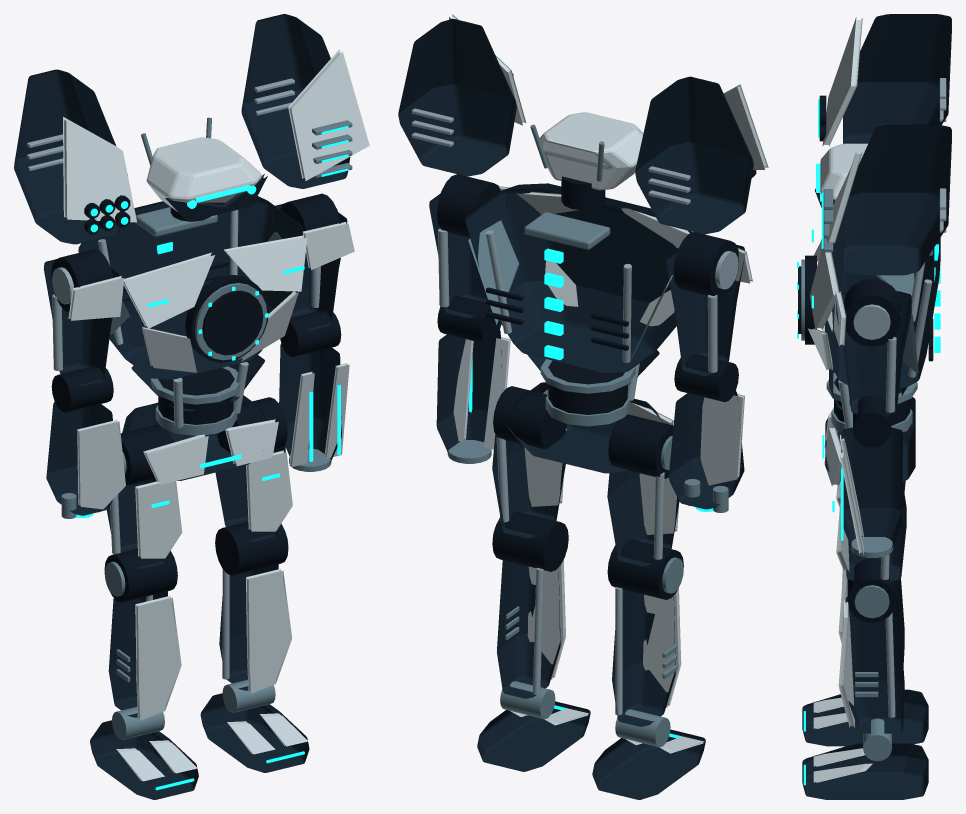
File: argus-aster.glb
The picture shows the model from 3 angles, left to right: view 1: azimuth 30°, elevation 25°; view 2: azimuth 150°, elevation 25°; view 3: azimuth 270°, elevation 25°; orthographic projection. The views are drawn at different scales.
Parts seen in each view (by area): view 1: chest, plasma_cannon, rocket_pod, shin_r, shin_l, forearm_l, forearm_r, upperarm_l, head, thigh_l, pelvis, foot_l (+5 smaller); view 2: chest, rocket_pod, plasma_cannon, shin_r, shin_l, forearm_l, forearm_r, thigh_l, upperarm_l, thigh_r, head, foot_l (+4 smaller); view 3: plasma_cannon, rocket_pod, shin_r, forearm_r, chest, upperarm_r, foot_r, foot_l, pelvis, thigh_r, head, waist (+2 smaller).
Boxes of the visible parts, x1,y1,x2,y2 form: chest: (78, 196, 307, 379); plasma_cannon: (241, 14, 369, 188); rocket_pod: (14, 69, 136, 244); shin_r: (215, 521, 292, 693); shin_l: (104, 548, 181, 720); forearm_l: (46, 366, 125, 518); forearm_r: (279, 310, 349, 471); upperarm_l: (44, 249, 124, 385); head: (141, 117, 267, 221); thigh_l: (107, 424, 182, 568); pelvis: (122, 395, 278, 484); foot_l: (90, 706, 198, 799); chest: (465, 183, 692, 373); rocket_pod: (635, 76, 768, 234); plasma_cannon: (398, 14, 526, 176); shin_r: (492, 511, 568, 698); shin_l: (607, 539, 683, 726); forearm_l: (668, 353, 744, 512); forearm_r: (436, 296, 510, 463); thigh_l: (607, 414, 679, 566); upperarm_l: (666, 232, 752, 375); thigh_r: (492, 386, 566, 538); head: (530, 112, 643, 210); foot_l: (592, 709, 705, 799); plasma_cannon: (821, 124, 951, 275); rocket_pod: (818, 14, 951, 146); shin_r: (838, 558, 904, 733); forearm_r: (840, 395, 902, 557); chest: (808, 218, 940, 388); upperarm_r: (833, 278, 911, 414); foot_r: (802, 718, 928, 799); foot_l: (802, 689, 928, 746); pelvis: (822, 397, 915, 486); thigh_r: (832, 481, 906, 581); head: (815, 143, 867, 207); waist: (826, 369, 917, 428).
Size of the model in its own units: 9.75 by 20.72 by 4.26.
